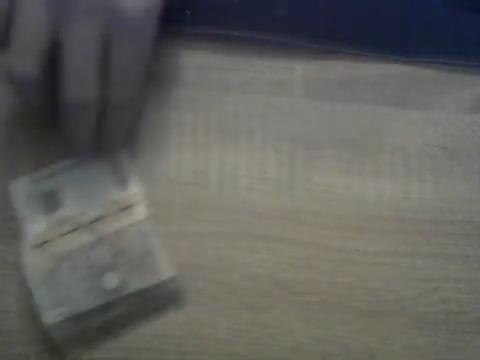10leva: (8, 149, 182, 360)
